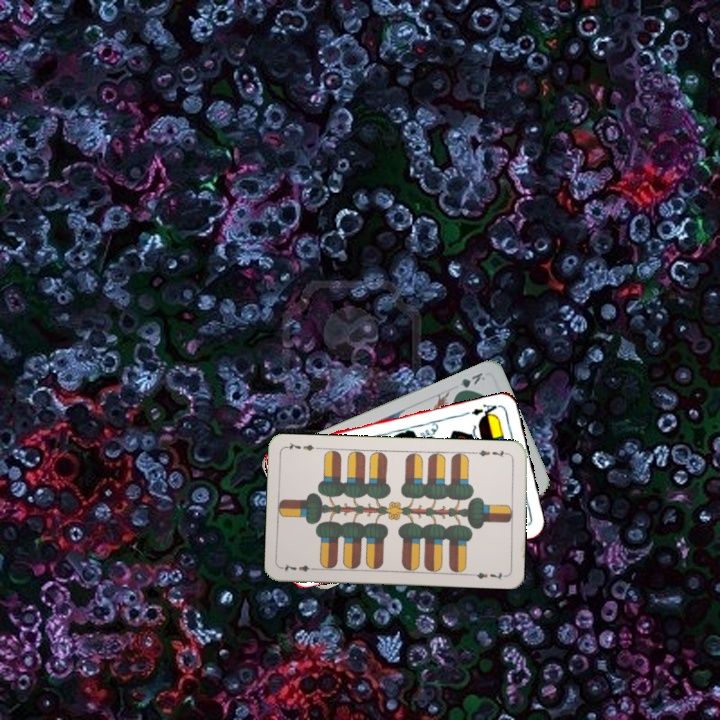E7: (471, 446, 512, 460), (279, 560, 319, 574)
EA: (467, 400, 502, 421)
GK: (452, 368, 488, 396)
